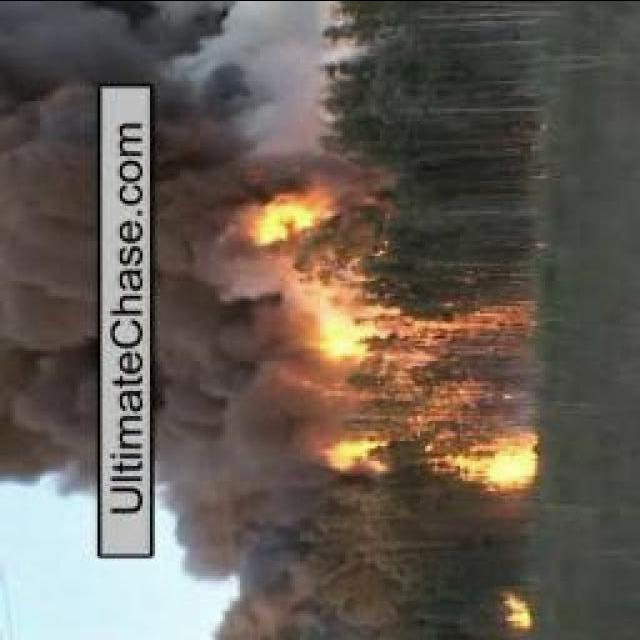Fire: (314, 308, 526, 499), (187, 174, 369, 256), (490, 584, 535, 640)
